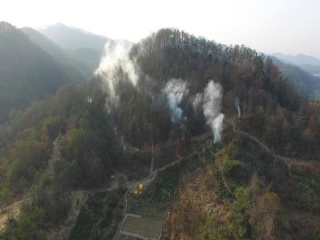smoke: (92, 39, 240, 144)
